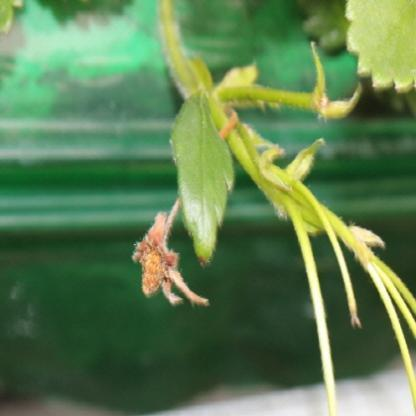Strawberry_Gray_Mold: (130, 211, 210, 306)
